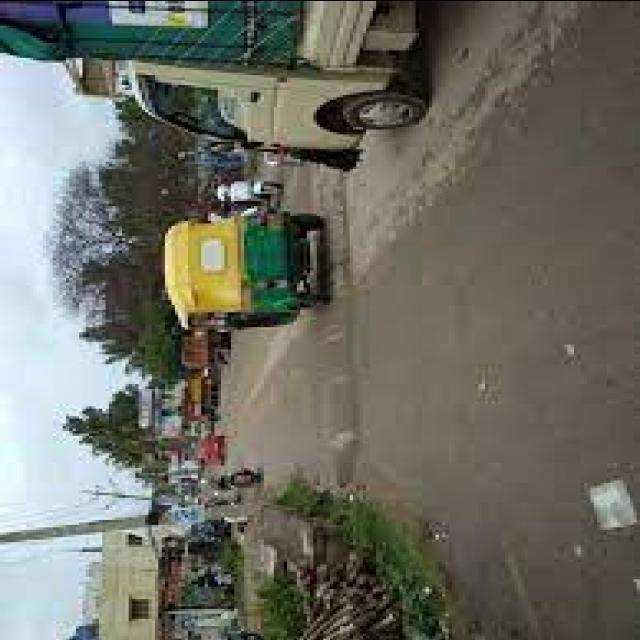speedbreaker: (308, 128, 361, 474)
